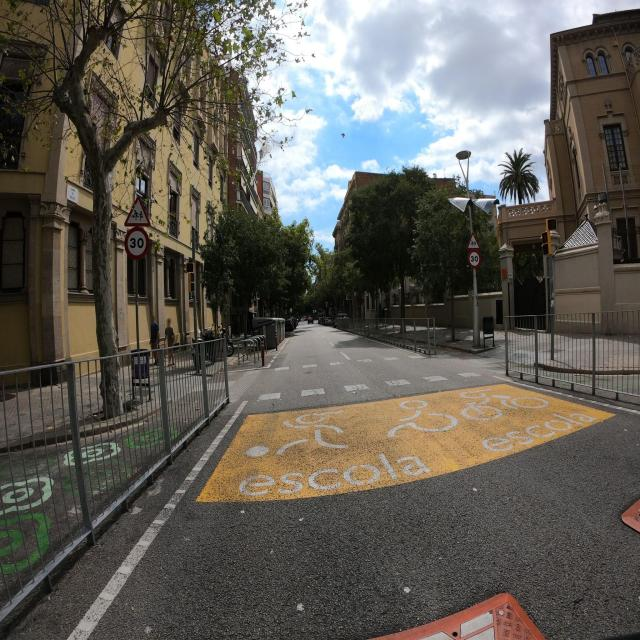car: (334, 311, 349, 329), (284, 315, 294, 332)
